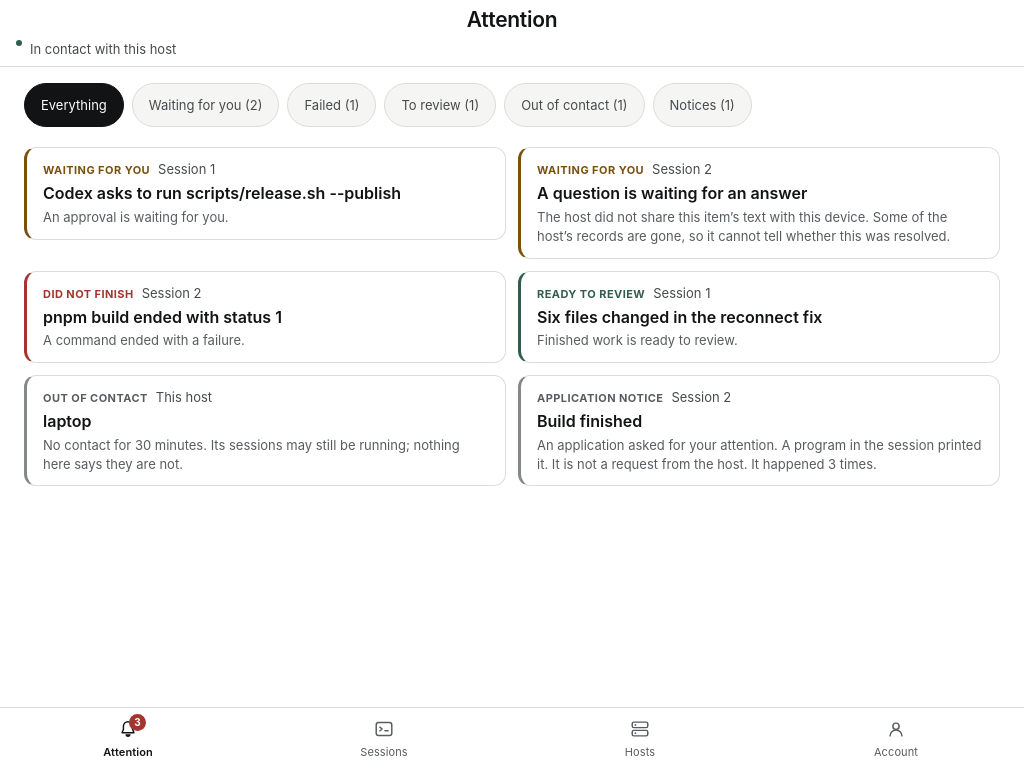
Test case: reading what deleting does › adds a line for each warning, the organisation owner first
Click the button "Account": (896, 738) [768,708,1023,767]
(page scrolled)
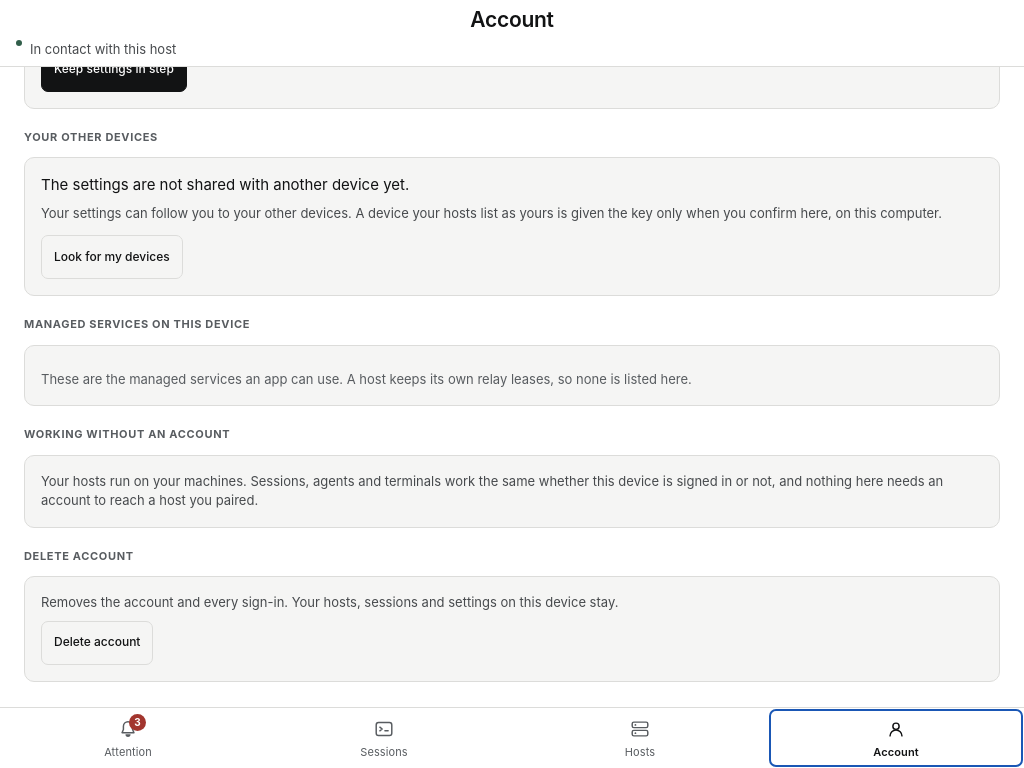
Click the button with test id "delete-account-open": (97, 643) [41,621,153,665]
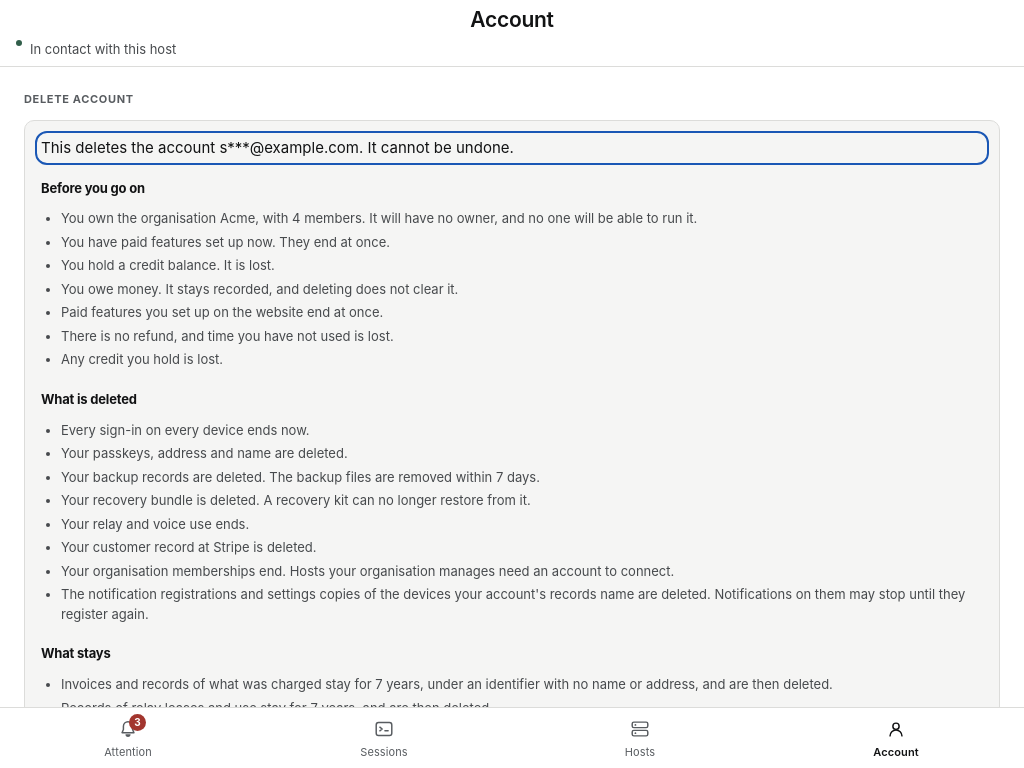
Result: the list with test id "delete-account-before" is shown at [61,210,697,367]
Result: the text "Acme" is shown at [61,210,697,226]
Result: the text "4 members" is shown at [61,210,697,226]
